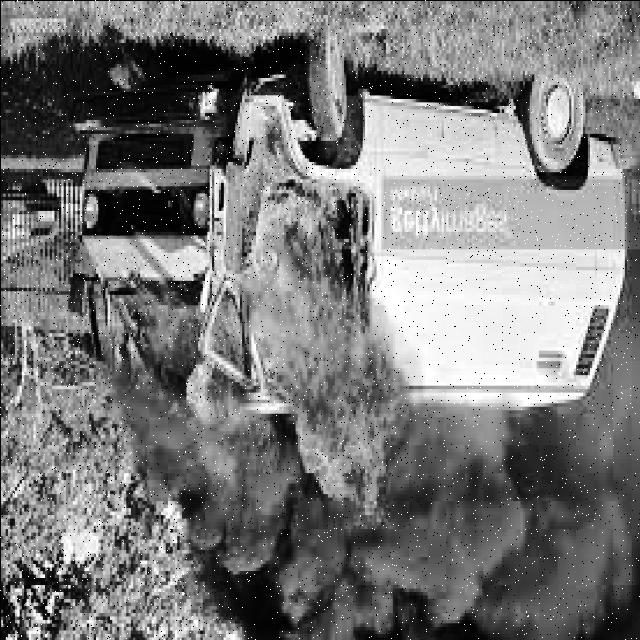api: (247, 152, 396, 508), (96, 281, 263, 537)
